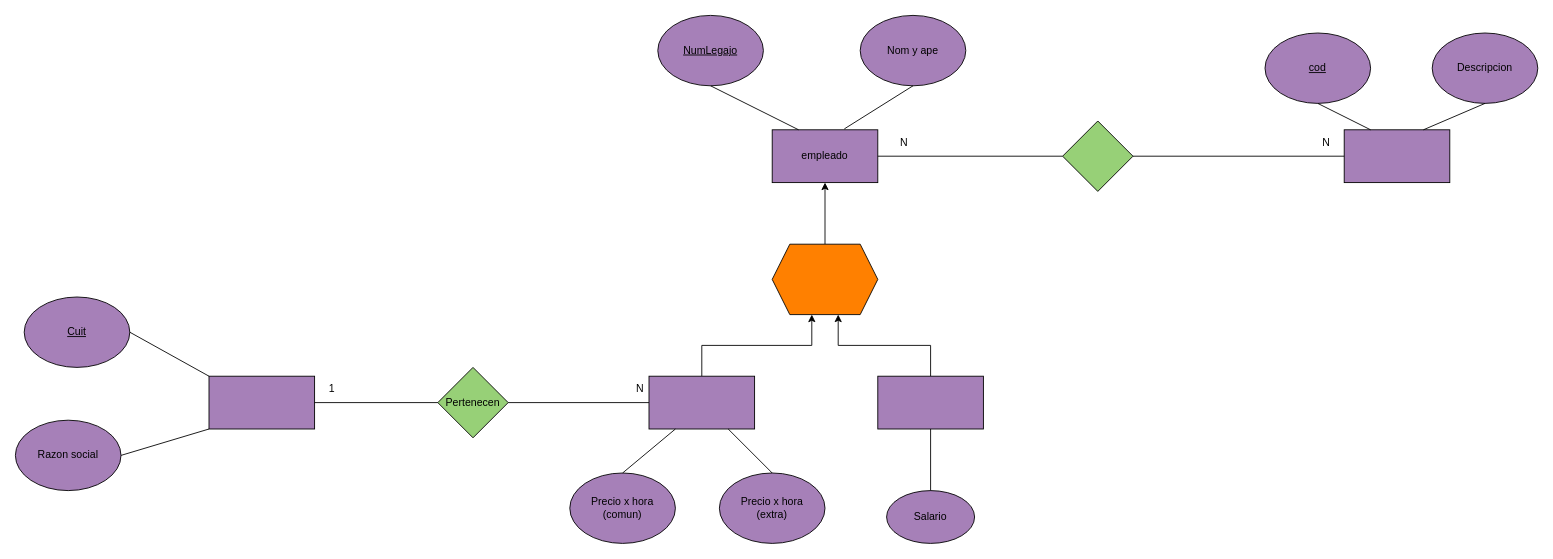
Some shapes in this 1553 by 559 pixel diagram are drawn without their labels. Each missing label, with the centre of its shape:
Consultora: the point at 261,402
Contrata: the point at 824,279
contratados: the point at 701,402
Departamento: the point at 1396,156
efectivos: the point at 930,402
trabaja: the point at 1097,155
